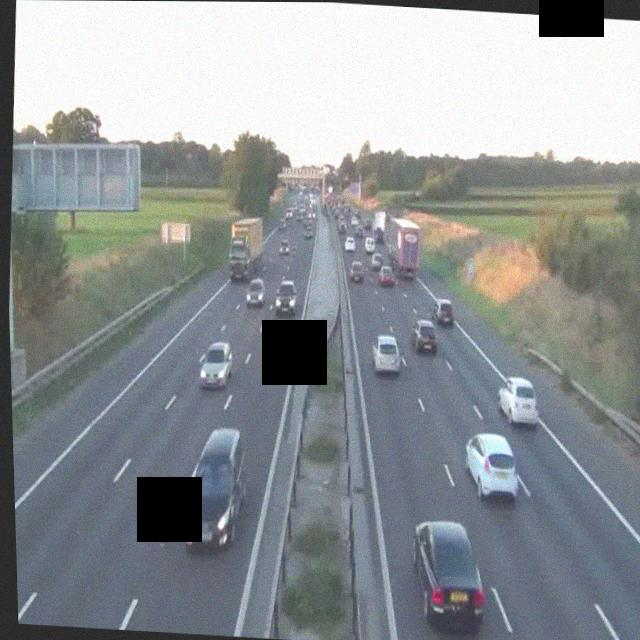car: (408, 518, 491, 629), (181, 425, 250, 553), (464, 431, 521, 501), (497, 376, 541, 426), (198, 340, 236, 391), (371, 334, 402, 375), (410, 317, 439, 355), (275, 279, 299, 316), (431, 297, 456, 327), (246, 278, 267, 306), (376, 264, 394, 287), (349, 262, 365, 283), (369, 251, 384, 270), (343, 235, 357, 252), (364, 236, 378, 253), (279, 238, 291, 255), (302, 225, 314, 240), (337, 219, 347, 233), (306, 211, 316, 223), (280, 220, 289, 232)
truck: (227, 218, 263, 282), (389, 218, 423, 279), (372, 210, 388, 237)
